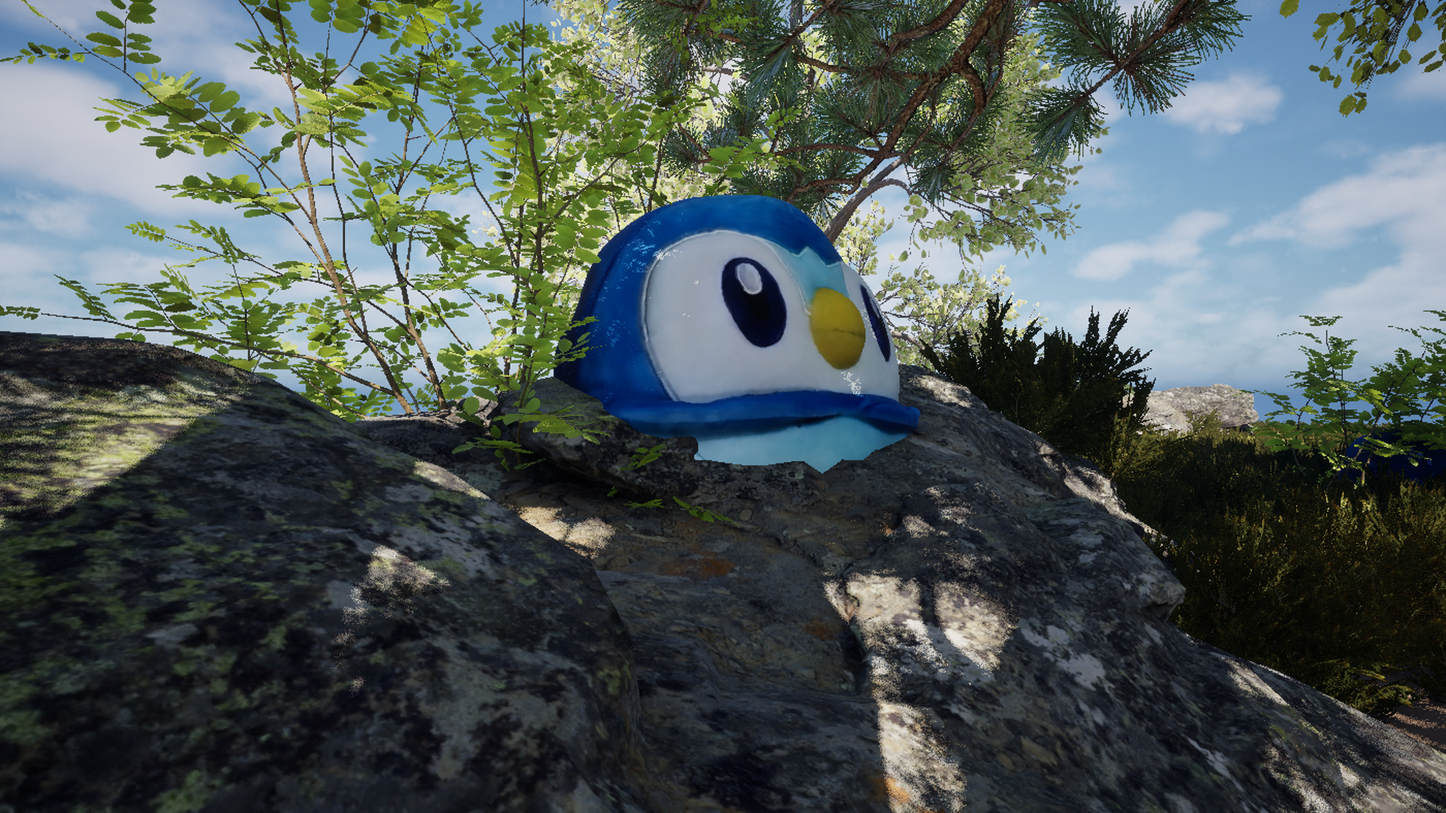Piplup: (260, 48, 1108, 765)
